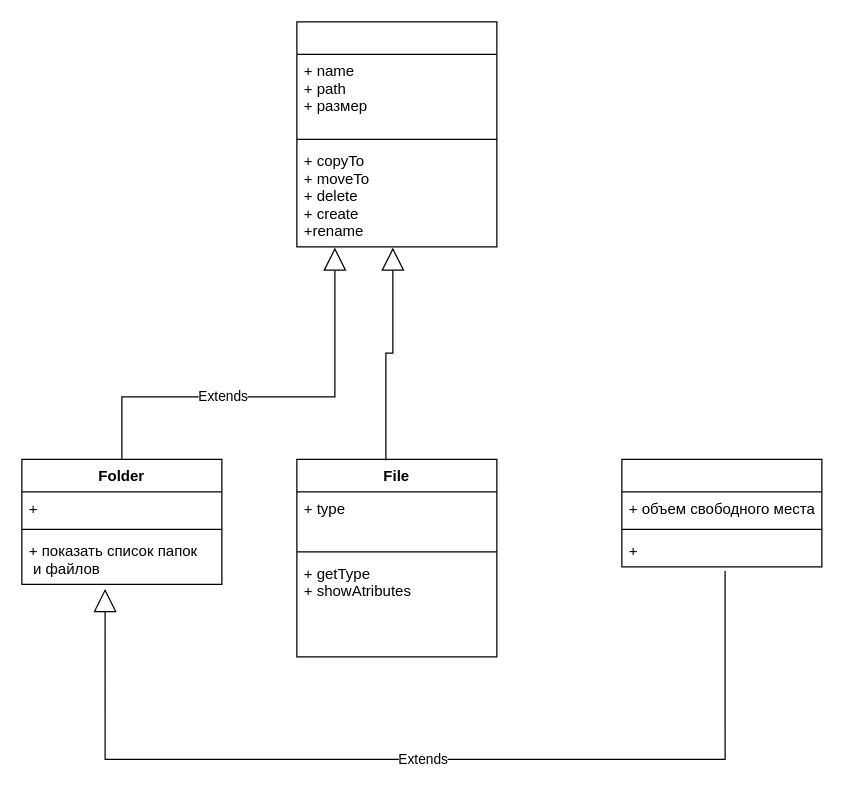
This 844x804 diagram has some shape labels left out. The shapes that lost their labels are listed below. From the top down, each one's box as (x1, y1, x2, y2) in pixels, then its label:
(296, 21, 497, 247): Item
(621, 458, 822, 567): Disk
